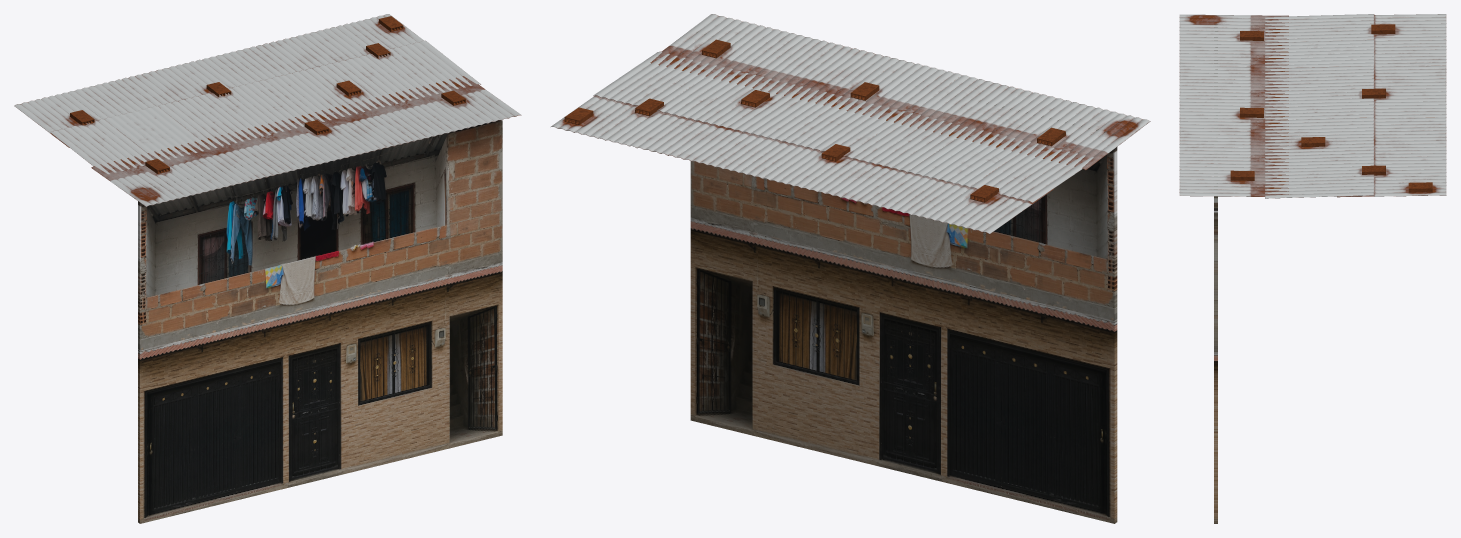
Rendered from casa_derecha_03S.fbx.
3 renders of one model, left to right at view 1: azimuth 30°, elevation 25°; view 2: azimuth 150°, elevation 25°; view 3: azimuth 270°, elevation 25°, orthographic. The views are drawn at different scales.
Parts seen in each view (by area): view 1: casa_derecha_03S.001, Techo_1.005; view 2: casa_derecha_03S.001, Techo_1.005; view 3: Techo_1.005, casa_derecha_03S.001.
Part boxes in pixels (bbox=[...]): casa_derecha_03S.001: bbox=[138, 103, 502, 523]; Techo_1.005: bbox=[14, 14, 521, 206]; casa_derecha_03S.001: bbox=[690, 31, 1117, 523]; Techo_1.005: bbox=[551, 14, 1150, 234]; Techo_1.005: bbox=[1179, 14, 1446, 198]; casa_derecha_03S.001: bbox=[1214, 24, 1217, 523].
Size of the model in its own units: 684 by 586 by 423.
